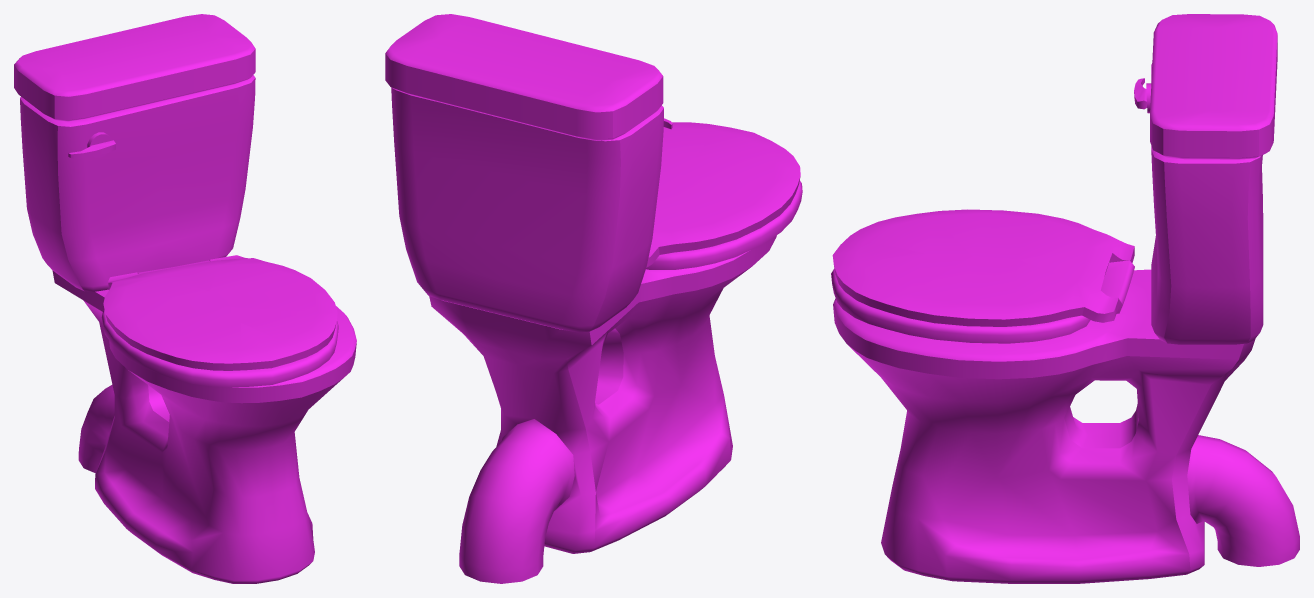
File: SM_ToiletSeat2.FBX
The picture shows the model from 3 angles, left to right: view 1: azimuth 30°, elevation 25°; view 2: azimuth 150°, elevation 25°; view 3: azimuth 270°, elevation 25°; orthographic projection. The views are drawn at different scales.
Visible parts, largest first — view 1: ToiletSeat2; view 2: ToiletSeat2; view 3: ToiletSeat2.
Part boxes in pixels (x1,y1,x2,y2): ToiletSeat2: (14, 14, 356, 583); ToiletSeat2: (385, 14, 802, 583); ToiletSeat2: (831, 14, 1299, 583).
Bounding box in the file's own units: 56.5 × 105 × 92.65.
